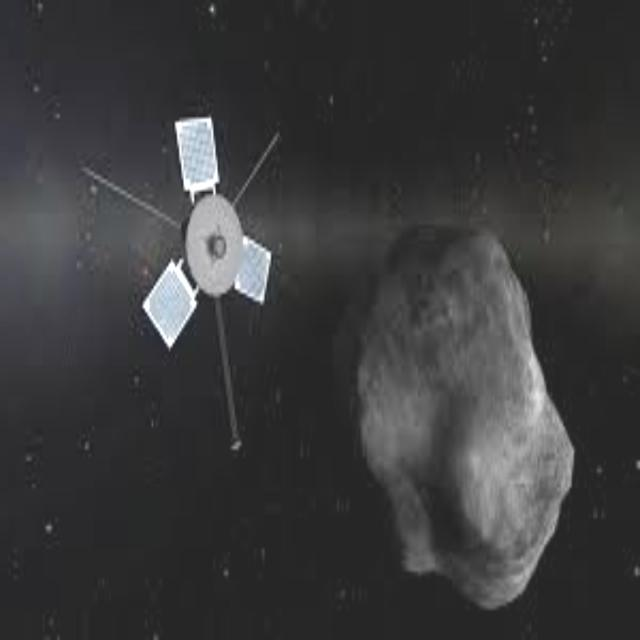satellite: (114, 98, 284, 420)
